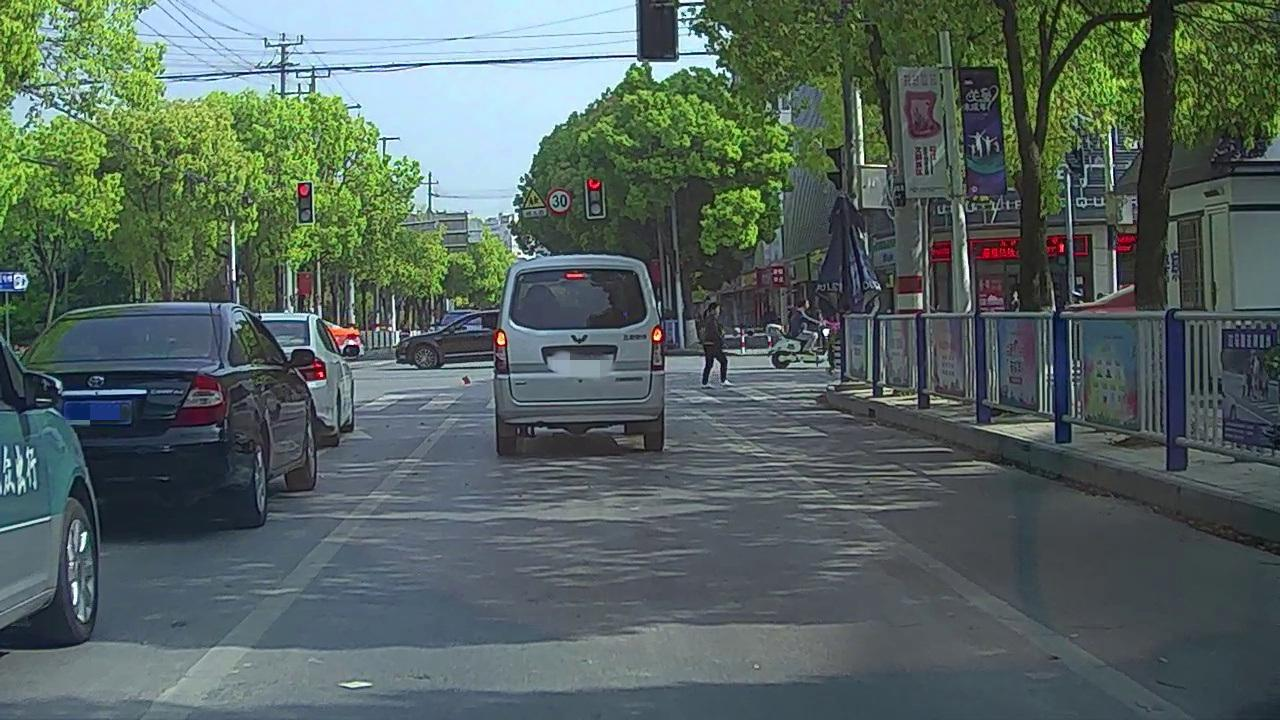traffic_light: (585, 173, 605, 219), (299, 183, 314, 225)
